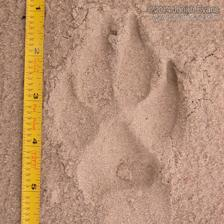dog: (43, 12, 187, 204)
